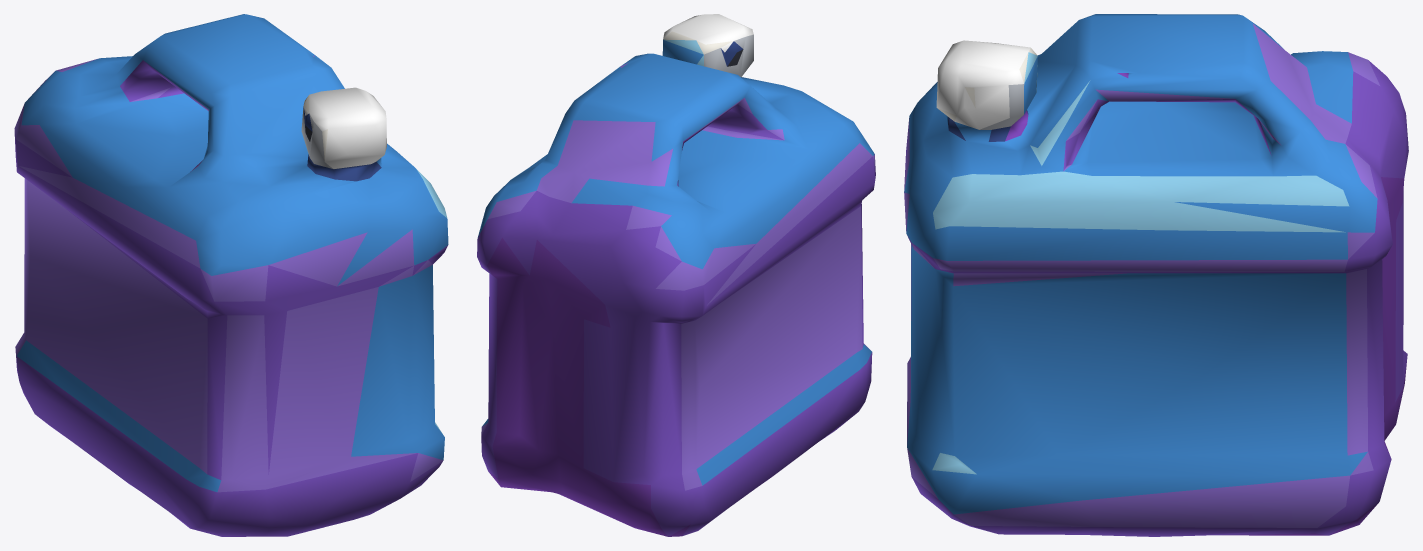
File: SM_jerrycan_blue.fbx
3 renders of one model, left to right at view 1: azimuth 30°, elevation 25°; view 2: azimuth 150°, elevation 25°; view 3: azimuth 270°, elevation 25°, orthographic. The views are drawn at different scales.
Visible parts, largest first — view 1: SM_jerrycan_blue; view 2: SM_jerrycan_blue; view 3: SM_jerrycan_blue.
Part boxes in pixels (box(x1,y1,x2,y2)): SM_jerrycan_blue: box(14, 14, 448, 536); SM_jerrycan_blue: box(477, 14, 875, 536); SM_jerrycan_blue: box(904, 14, 1408, 536).
Size of the model in its own units: 28.46 by 45 by 45.06.
1 material, 1 textured.
